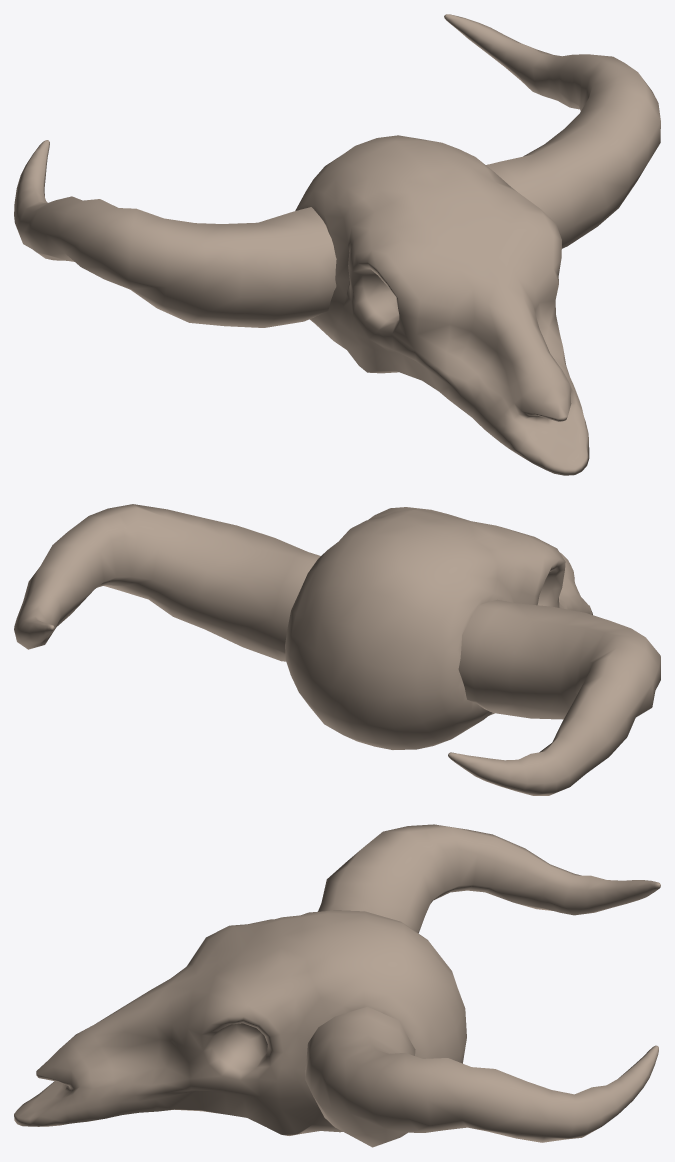
The model's file is separatedPieces07_skullWithHorns.fbx.
The picture shows the model from 3 angles, top to bottom: view 1: azimuth 30°, elevation 25°; view 2: azimuth 150°, elevation 25°; view 3: azimuth 270°, elevation 25°; orthographic projection. The views are drawn at different scales.
Visible parts, largest first — view 1: skullWithHorns_LOD0; view 2: skullWithHorns_LOD0; view 3: skullWithHorns_LOD0.
Part boxes in pixels (x1,y1,x2,y2): skullWithHorns_LOD0: [14, 14, 660, 475]; skullWithHorns_LOD0: [14, 504, 660, 795]; skullWithHorns_LOD0: [14, 824, 660, 1147].
Bounding box in the file's own units: 90.45 × 30.42 × 88.93.
